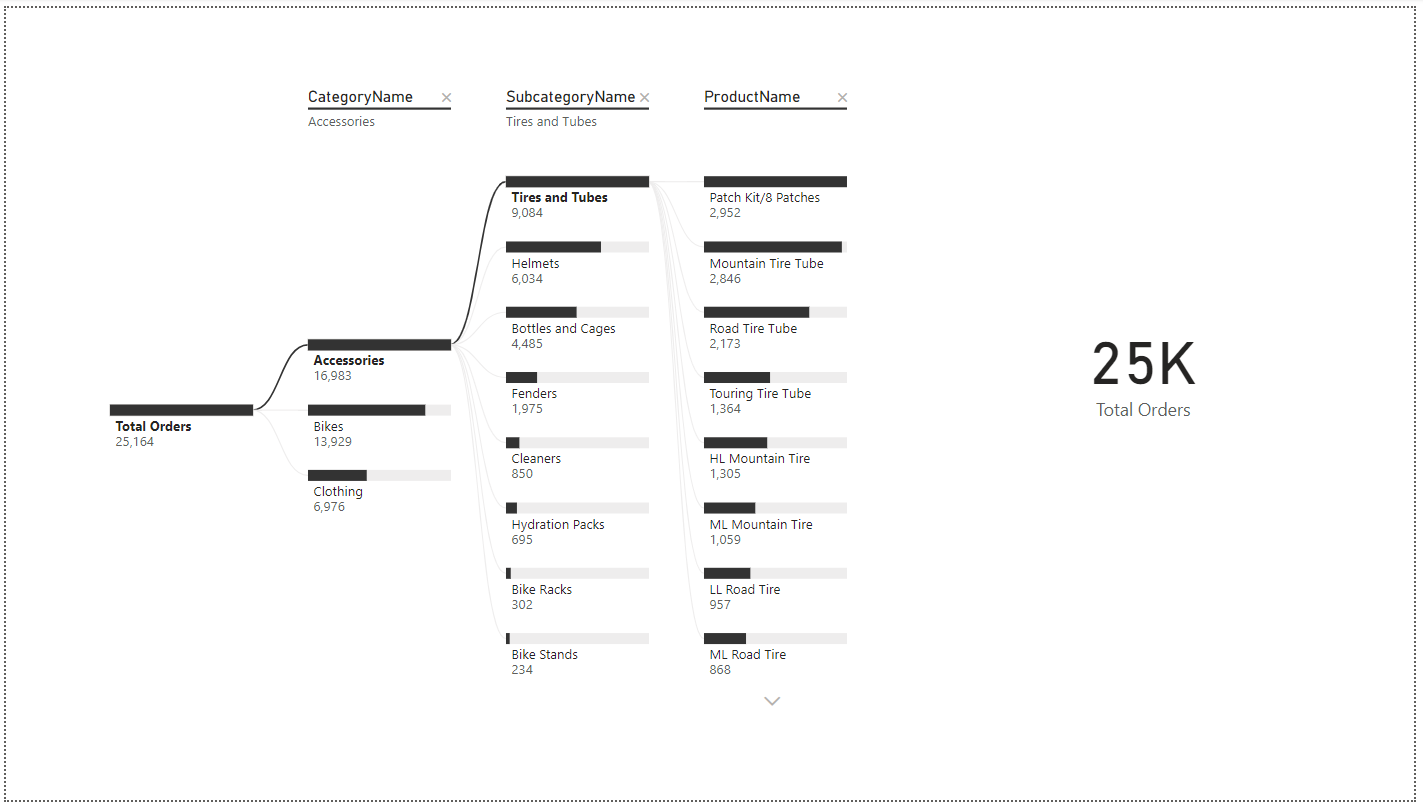

The dashboard page shown, as its layout file describes it:
{"tool":"powerbi","page":{"name":"Decomposition Tree","canvas":[1280,720],"ordinal":6},"visuals":[{"type":"decompositionTreeVisual","fields":{"ExplainBy":["Product Categories Lookup.CategoryName","Product Subcategories Lookup.SubcategoryName","Product Lookup.ProductName"],"Analyze":["Measure Table.Total Orders"]},"box":[64.4,55.4,773.1,597.9],"z":0},{"type":"card","fields":{"Values":["Measure Table.Total Orders"]},"box":[894.1,204.6,280.3,243],"z":1000}]}

Visuals, with their boxes in screenshot pixels (x1, y1, x2, y2), scaled from the page's 1280x720 canvas onto the 1423x808 screenshot:
decompositionTreeVisual - Product Categories Lookup.CategoryName x Product Subcategories Lookup.SubcategoryName: rect(72, 62, 931, 733)
card - Measure Table.Total Orders: rect(994, 230, 1306, 502)
